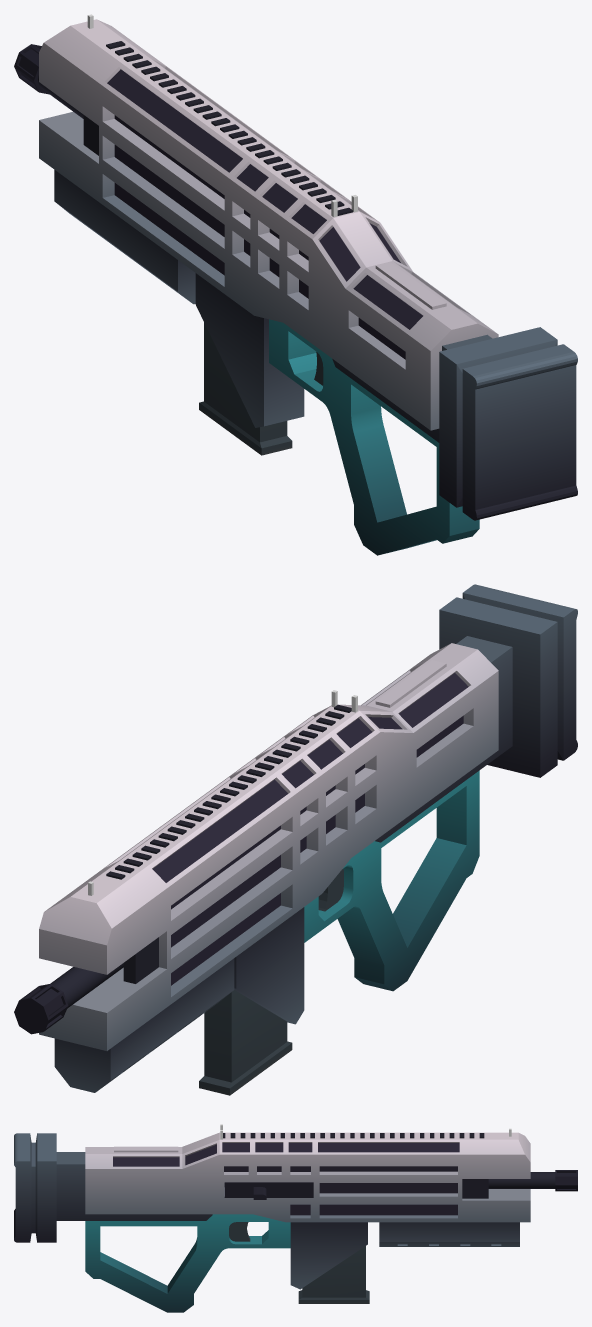
Rendered from scifirifle.fbx.
3 views of the same model, one above another, from view 1: azimuth 30°, elevation 25°; view 2: azimuth 150°, elevation 25°; view 3: azimuth 270°, elevation 25° (orthographic). The views are drawn at different scales.
Visible parts, largest first — view 1: Body, Stock, Handle, Feeder, Grip, Magazine, Rail, Muzzle; view 2: Body, Stock, Handle, Magazine, Grip, Feeder, Rail, Muzzle, Cylinder, MuzzleGuard; view 3: Body, Handle, Stock, Feeder, Grip, Magazine, Slide, Cylinder, Rail, MuzzleGuard, Muzzle, Trigger.
Part boxes in pixels (x1,y1,x2,y2): Body: (39, 19, 498, 430); Stock: (332, 327, 577, 520); Handle: (269, 319, 479, 555); Feeder: (195, 273, 304, 427); Grip: (54, 170, 195, 304); Magazine: (199, 322, 292, 455); Rail: (106, 41, 352, 215); Muzzle: (14, 44, 49, 94); Body: (39, 643, 498, 1050); Stock: (375, 584, 577, 842); Handle: (304, 770, 479, 991); Magazine: (199, 990, 292, 1095); Grip: (54, 958, 234, 1092); Feeder: (234, 907, 304, 1024); Rail: (106, 704, 351, 879); Muzzle: (14, 983, 68, 1034); Cylinder: (50, 963, 123, 1008); MuzzleGuard: (123, 937, 158, 983); Body: (85, 1132, 530, 1222); Handle: (85, 1214, 290, 1312); Stock: (14, 1133, 212, 1242); Feeder: (290, 1222, 367, 1289); Grip: (379, 1222, 519, 1246); Magazine: (298, 1246, 369, 1303); Slide: (224, 1182, 313, 1199); Cylinder: (488, 1172, 555, 1188); Rail: (223, 1133, 484, 1138); MuzzleGuard: (462, 1179, 488, 1198); Muzzle: (555, 1170, 577, 1191); Trigger: (229, 1222, 250, 1241).
Size of the model in its own units: 151 by 406 by 1146.
Materials: 1 (1 with a texture image).
